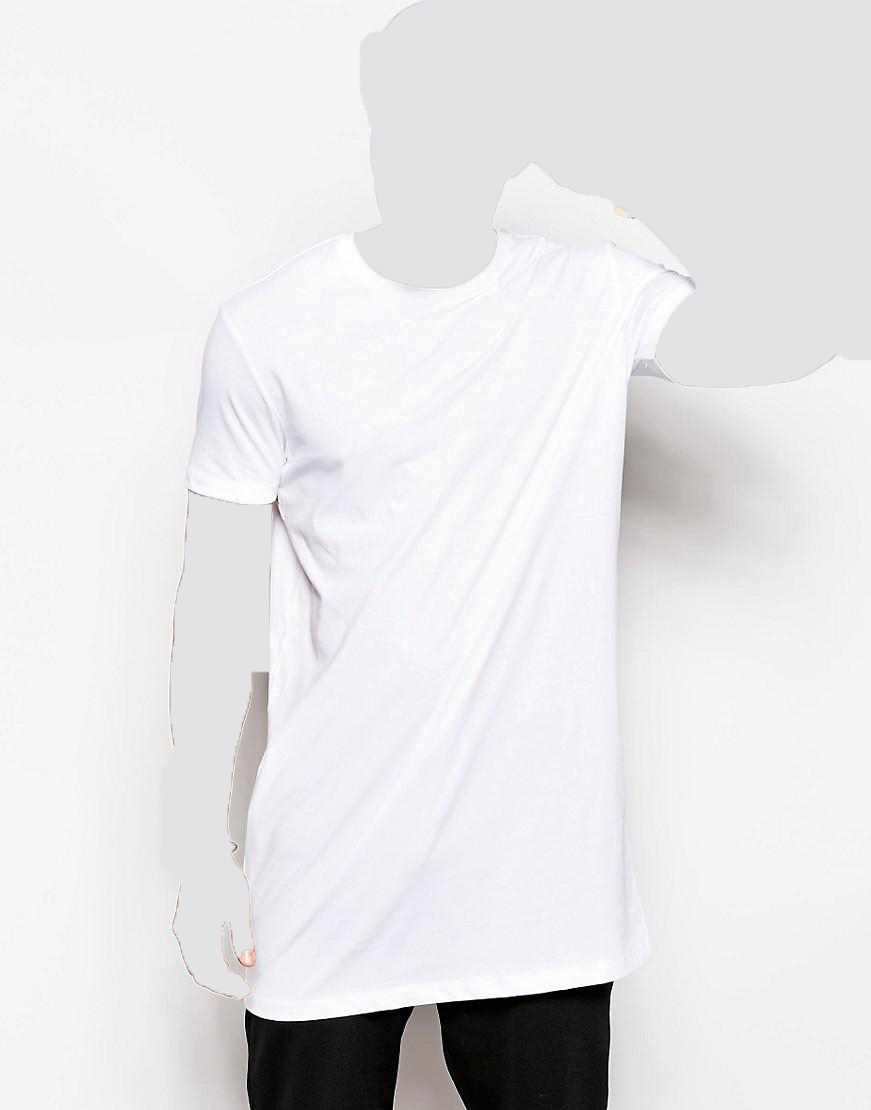teeshirt: (174, 217, 705, 1020)
